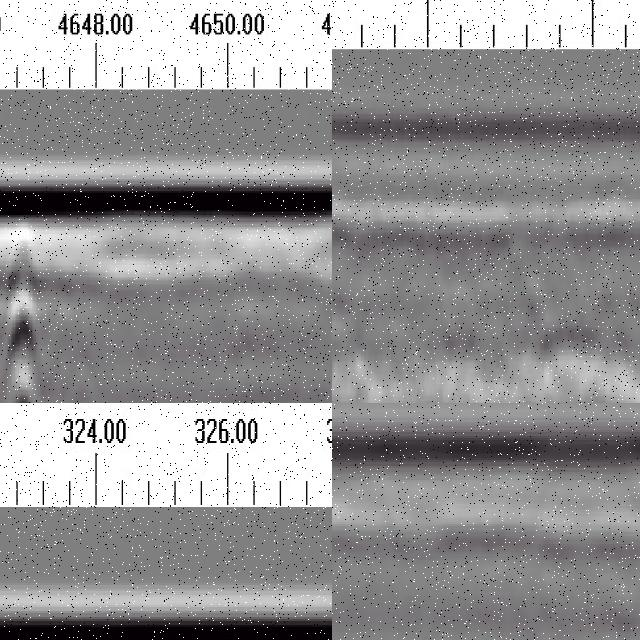crack: (9, 221, 37, 404)
